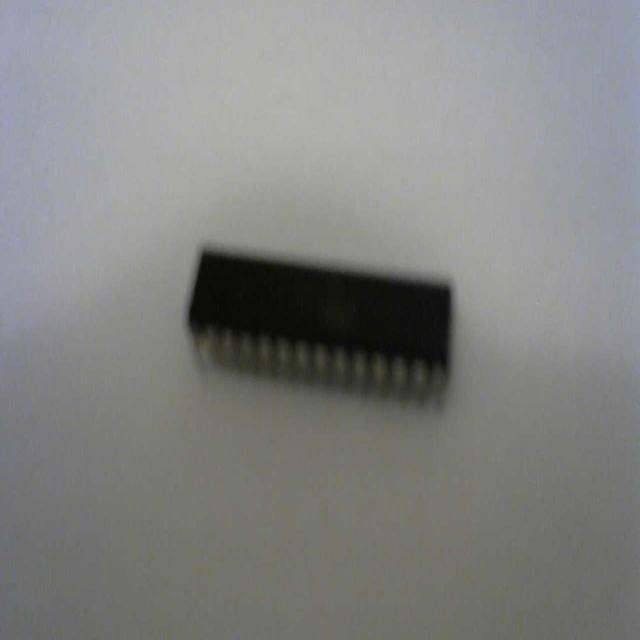atmega: (184, 241, 456, 411)
